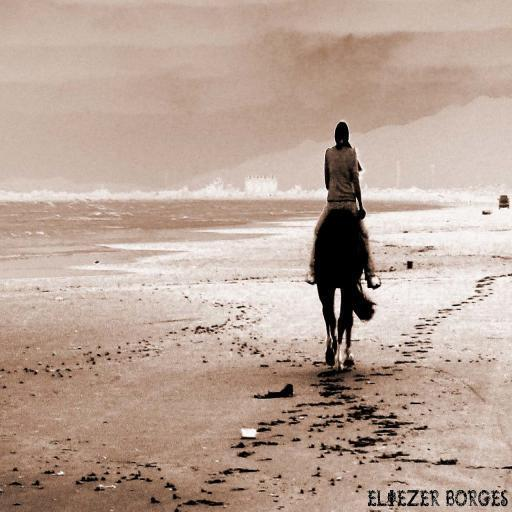horse: (312, 206, 380, 372)
